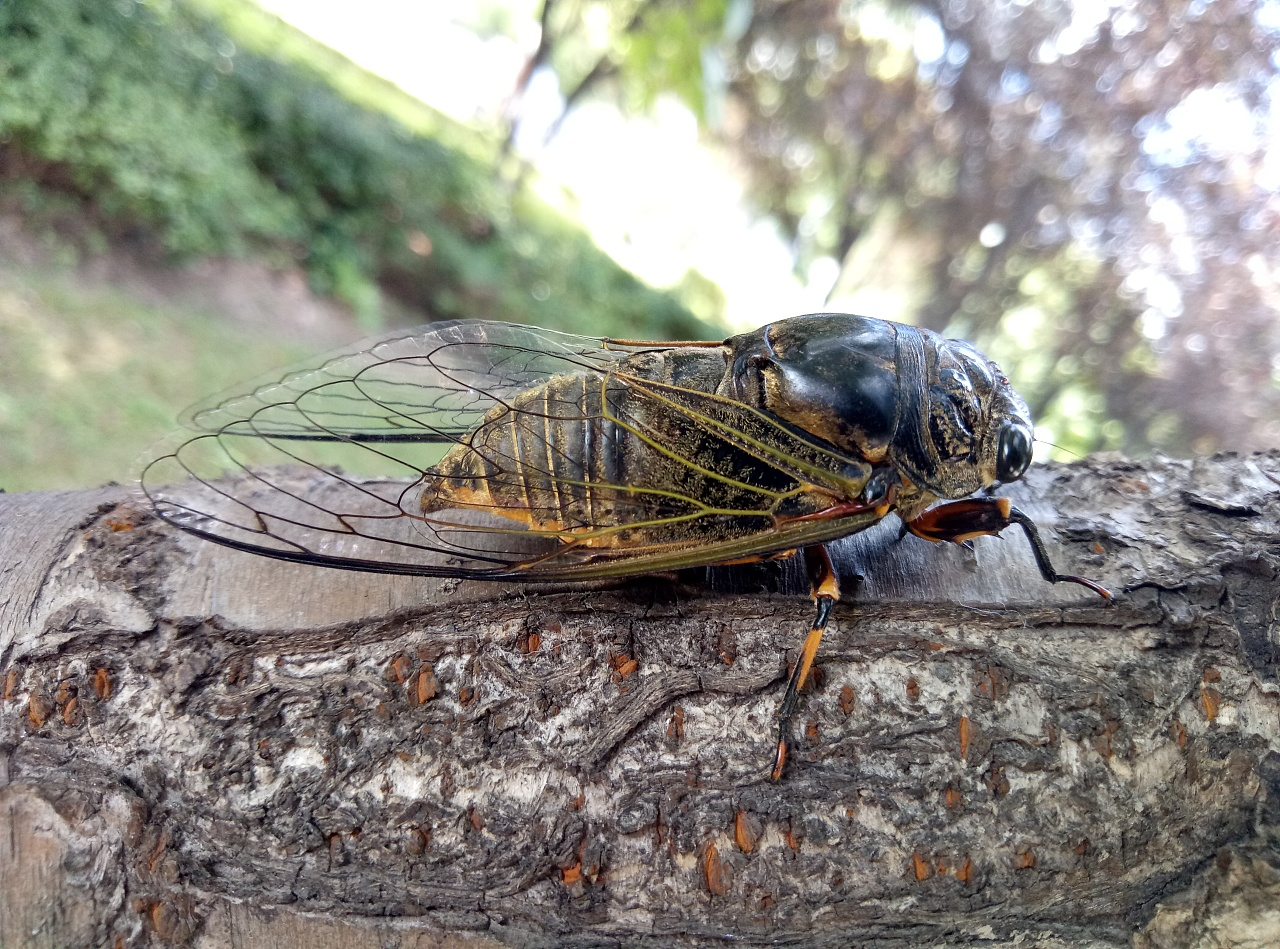chan: (188, 282, 1038, 618)
